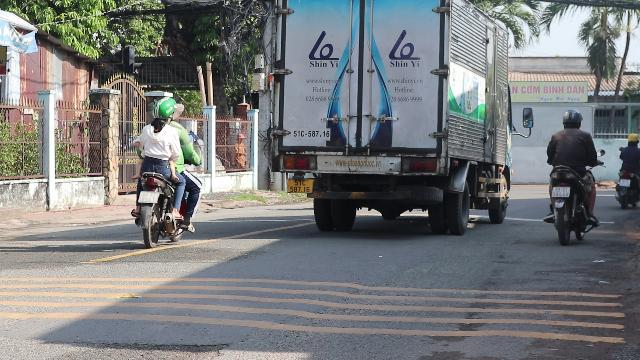helmet: (148, 97, 176, 127), (560, 109, 582, 129)
licenseplate: (138, 190, 158, 201), (552, 187, 570, 197)
motorcyclist: (127, 95, 201, 246), (542, 108, 600, 244)
